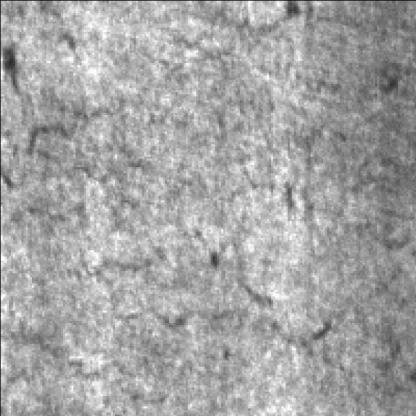crazing: (12, 235, 410, 379), (0, 87, 148, 233)
